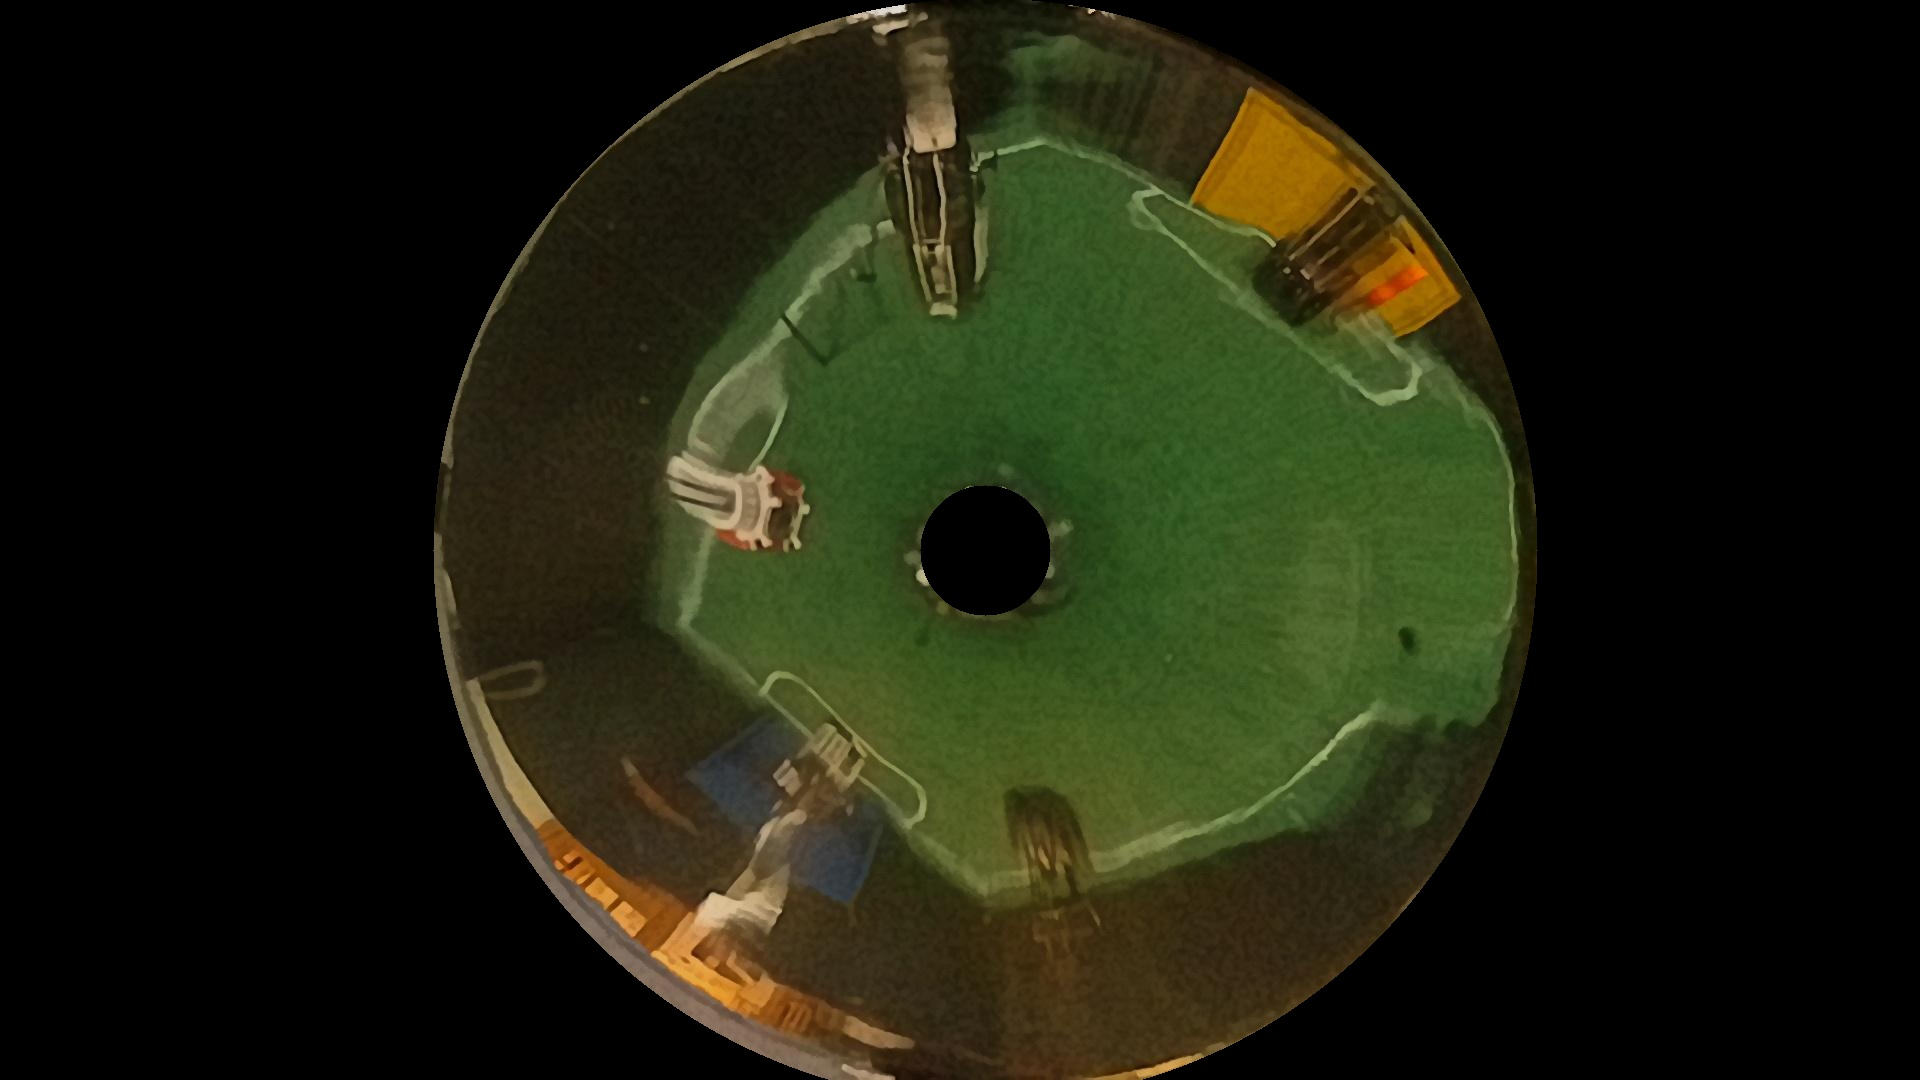ball: (1371, 266, 1431, 307)
blue-goal: (683, 691, 915, 924)
robots: (694, 728, 876, 971), (881, 36, 1001, 324), (1254, 175, 1416, 328), (663, 456, 827, 564)
yellow-goal: (1211, 74, 1462, 344)
